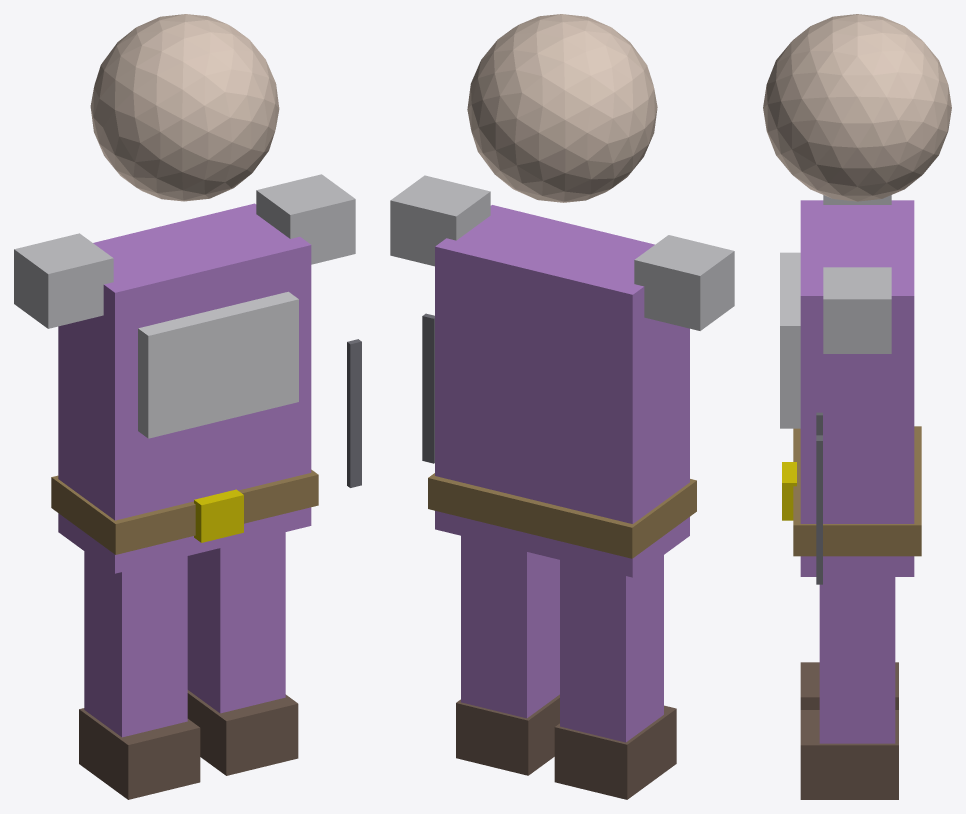
The model's file is assassin_f.glb.
3 renders of one model, left to right at view 1: azimuth 30°, elevation 25°; view 2: azimuth 150°, elevation 25°; view 3: azimuth 270°, elevation 25°, orthographic.
Visible parts, largest first — view 1: geometry_0; view 2: geometry_0; view 3: geometry_0.
Part boxes in pixels (x1,y1,x2,y2): geometry_0: (14,14,361,799); geometry_0: (390,14,734,799); geometry_0: (763,14,951,799).
Size of the model in its own units: 0.9475 by 2.15 by 0.5.
